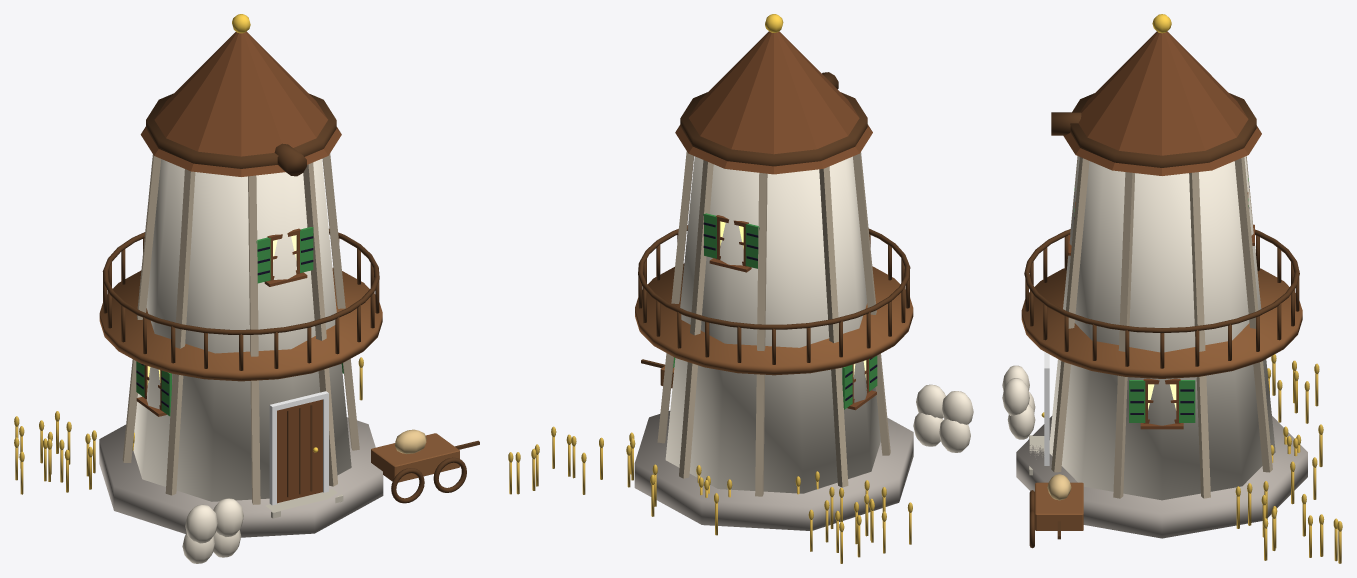
The model's file is mlyn.glb.
3 views of the same model, side by side, from view 1: azimuth 30°, elevation 25°; view 2: azimuth 150°, elevation 25°; view 3: azimuth 270°, elevation 25° (orthographic).
Parts seen in each view (by area): view 1: mlyn; view 2: mlyn; view 3: mlyn.
Boxes of the visible parts, bbox=[...] form: mlyn: bbox=[14, 14, 479, 563]; mlyn: bbox=[508, 14, 973, 563]; mlyn: bbox=[1002, 14, 1342, 563].
Bounding box in the file's own units: 7.79 × 9.51 × 6.3.
Materials: 2 (2 with a texture image).
